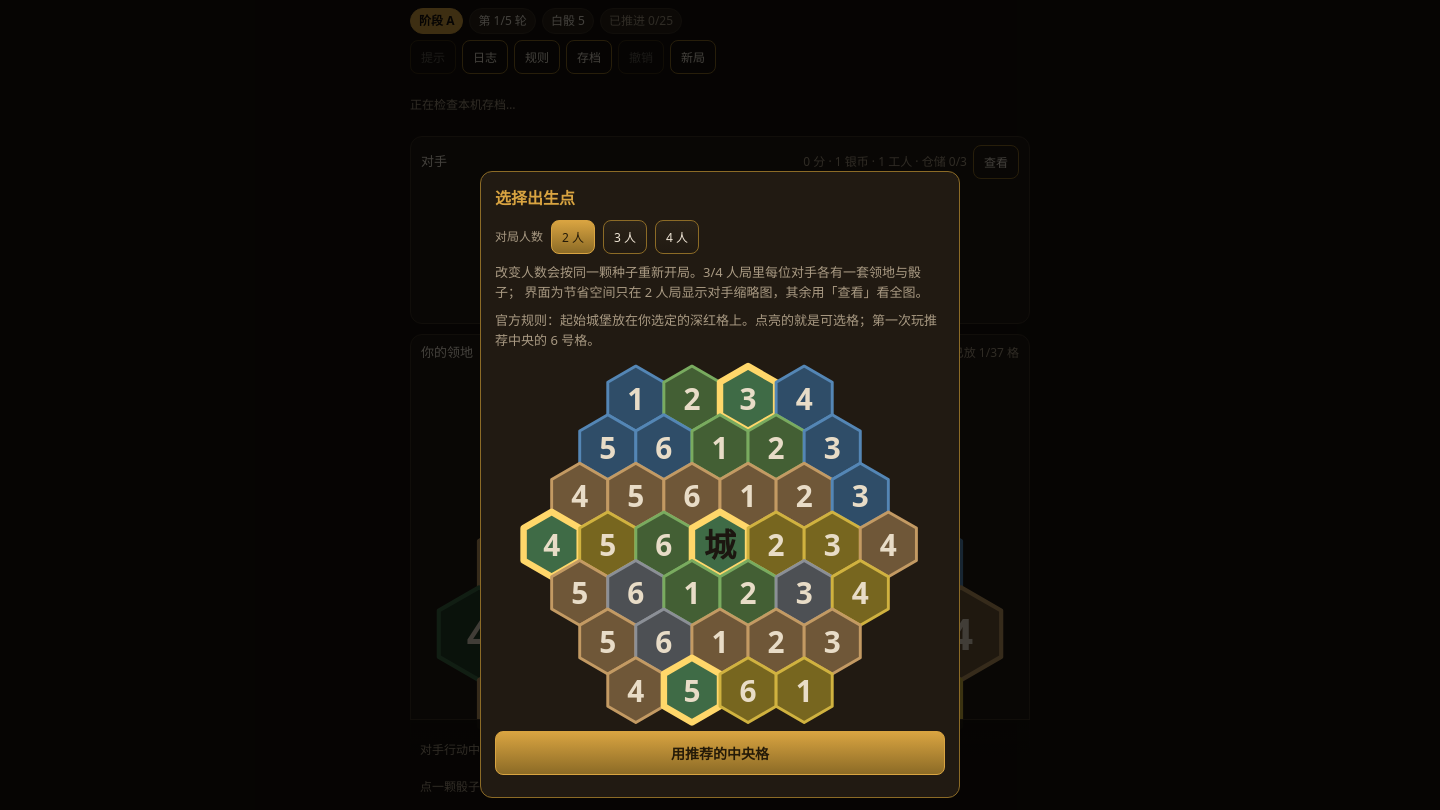
Test: 开局流程 › 先弹出出生点选择，选完才进入对局
The width and height of the screenshot is (1440, 810).
Expected: the heading "选择出生点" is shown, [495,187,575,209]
Click the button "用推荐的中央格".
click(720, 753)  # box [495,731,945,775]
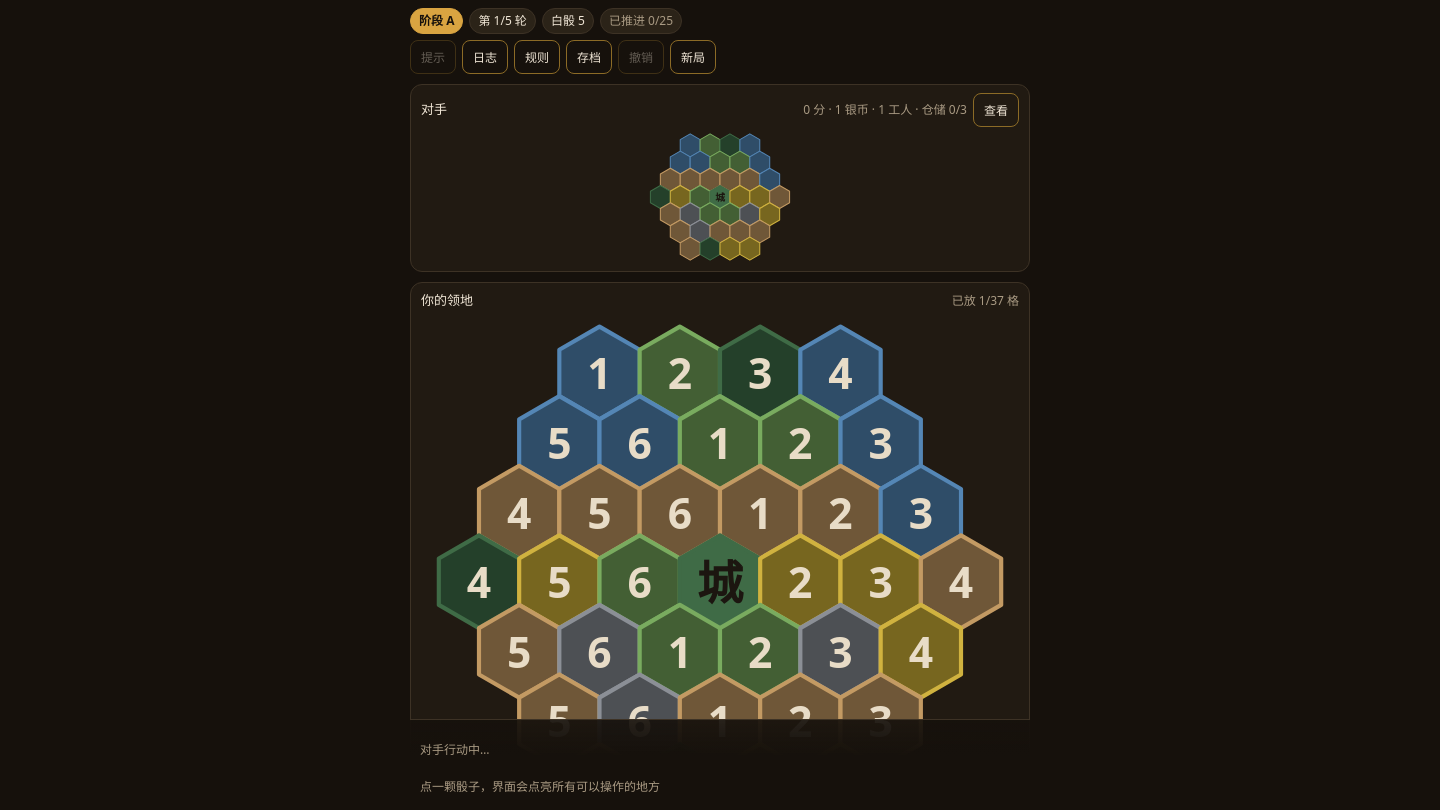
Result: the heading "选择出生点" is gone
